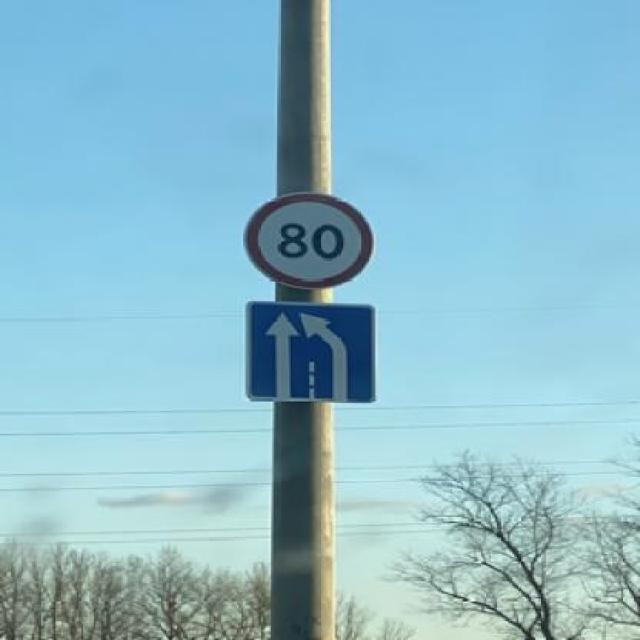forb_speed_over_80: (248, 191, 377, 287)
